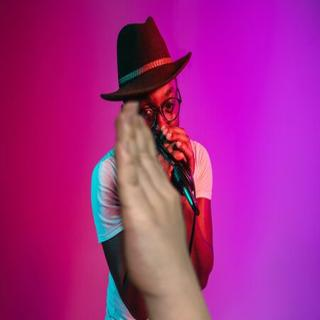RIGHT: (105, 95, 202, 306)
